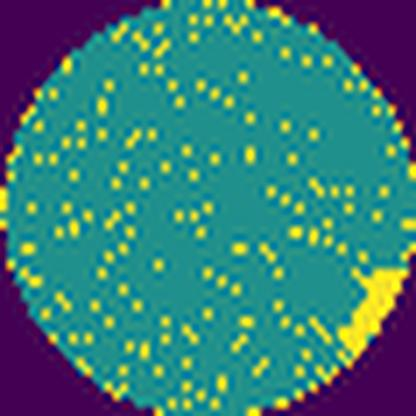Edge-Loc: (334, 262, 413, 366)
